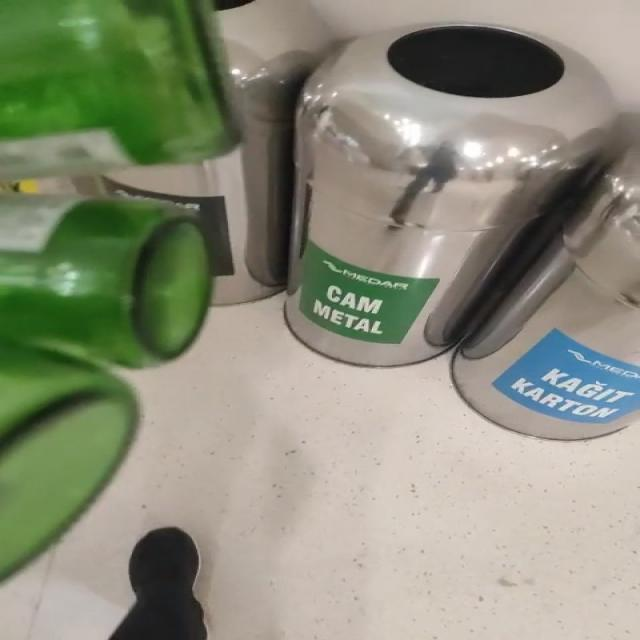glass: (1, 195, 212, 577), (1, 0, 237, 180)
